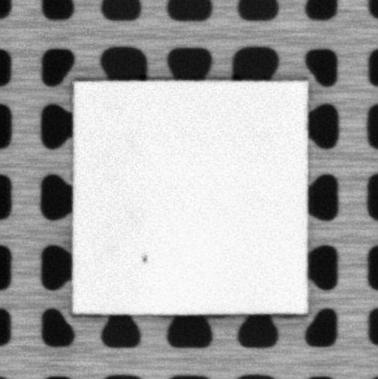DIE_INK: (139, 253, 150, 264)
